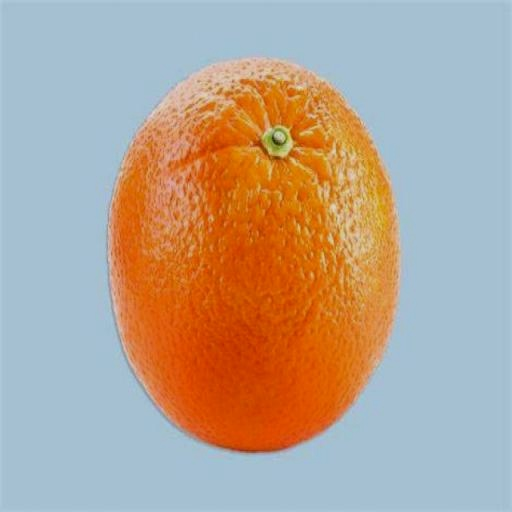fruit: (108, 59, 398, 450)
